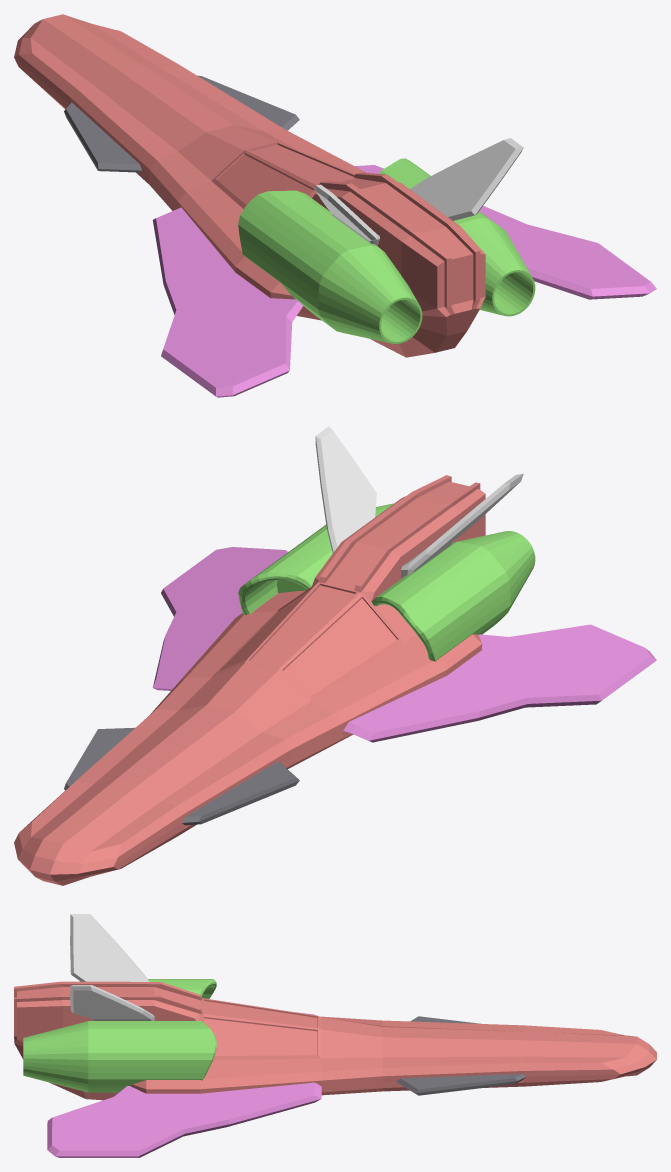
The model's file is fighter.fbx.
3 renders of one model, top to bottom at view 1: azimuth 30°, elevation 25°; view 2: azimuth 150°, elevation 25°; view 3: azimuth 270°, elevation 25°, orthographic. The views are drawn at different scales.
Parts seen in each view (by area): view 1: ship, wing.left, drive.left, wing.right, drive.right, wing.top.right, glass, wing.front.left, wing.frong.right, wing.top.left; view 2: ship, wing.left, drive.left, glass, wing.right, wing.top.right, drive.right, wing.front.left, wing.top.left, wing.frong.right; view 3: ship, wing.right, drive.right, glass, wing.top.left, wing.top.right, wing.frong.right, drive.left.
Part boxes in pixels (<box>): ship: <box>14,14,485,357</box>; wing.left: <box>152,207,303,397</box>; drive.left: <box>238,190,422,343</box>; wing.right: <box>354,165,656,299</box>; drive.right: <box>379,158,535,316</box>; wing.top.right: <box>410,138,523,220</box>; glass: <box>217,145,353,204</box>; wing.front.left: <box>64,102,141,172</box>; wing.frong.right: <box>197,75,299,130</box>; wing.top.left: <box>315,184,379,246</box>; ship: <box>14,475,485,885</box>; wing.left: <box>343,624,656,742</box>; drive.left: <box>372,531,535,661</box>; glass: <box>219,585,397,695</box>; wing.right: <box>152,547,287,690</box>; wing.top.right: <box>315,426,376,553</box>; drive.right: <box>238,503,393,614</box>; wing.front.left: <box>182,761,299,825</box>; wing.top.left: <box>401,473,523,578</box>; wing.frong.right: <box>64,727,135,790</box>; ship: <box>14,981,656,1100</box>; wing.right: <box>47,1082,321,1157</box>; drive.right: <box>23,1021,216,1092</box>; glass: <box>204,1001,317,1055</box>; wing.top.left: <box>70,914,149,981</box>; wing.top.right: <box>70,985,154,1020</box>; wing.frong.right: <box>396,1074,525,1095</box>; drive.left: <box>79,979,216,998</box>.
Bounding box in the file's own units: 887 × 368 × 1476.
